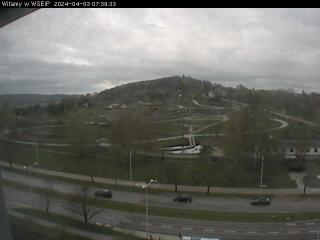car: (94, 188, 114, 200), (174, 192, 192, 204), (250, 197, 271, 206)
